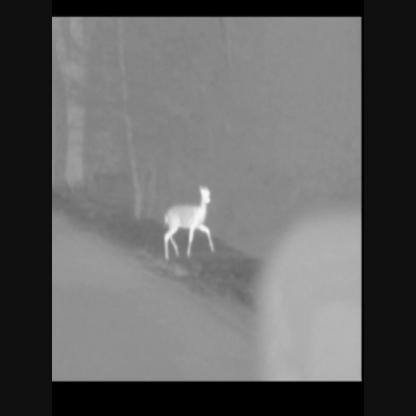rehkitze: (160, 186, 219, 263)
